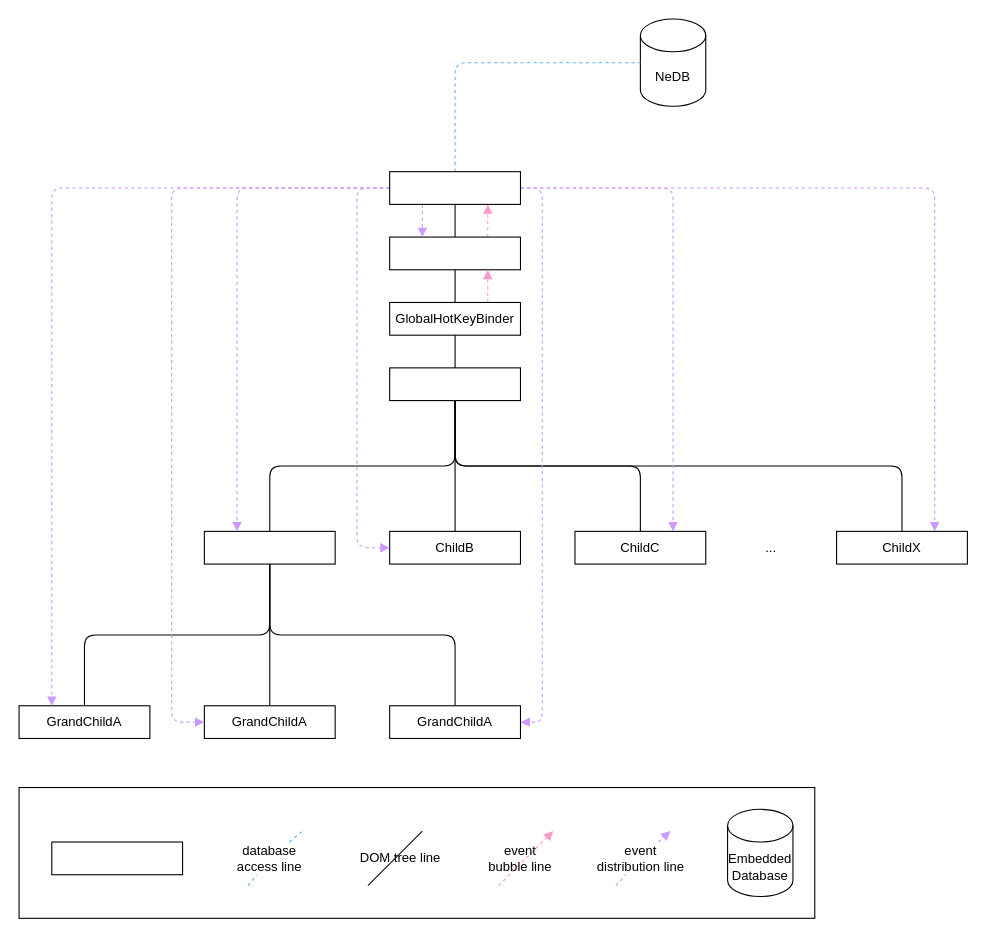
Image size: 986x937. Some labels were removed from this diagram. The box of each missing label's shape, as (x1, y1, x2, y2) in pixels:
App: (389, 236, 520, 270)
ChildA: (203, 530, 335, 564)
children: (389, 367, 520, 401)
HotKeysContext: (389, 171, 520, 204)
React Component: (51, 841, 183, 875)
